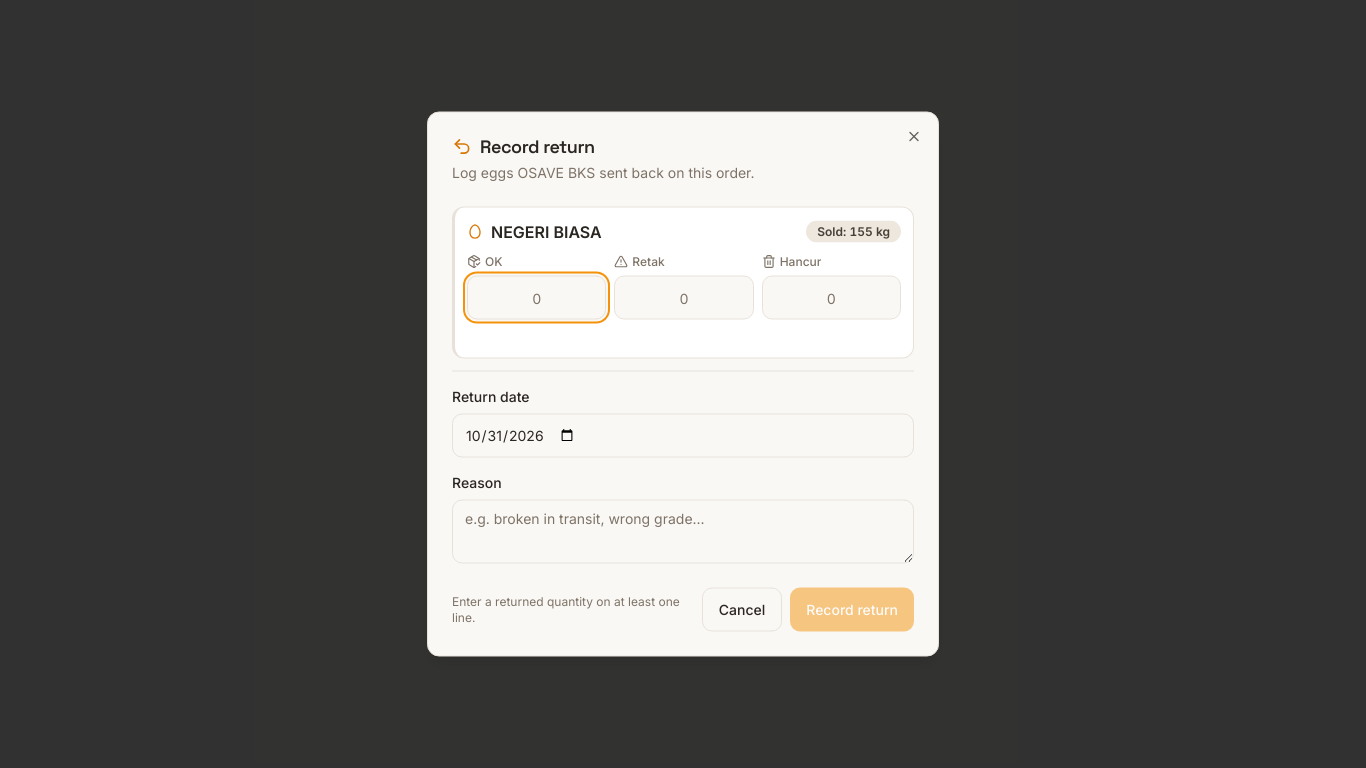
Test case: RecordReturnDialog › clamps the line total to the amount sold and shows the over-max hint
Type "999" into the field labelled "OK".
click(537, 298); type("999")  # box [467, 276, 606, 320]
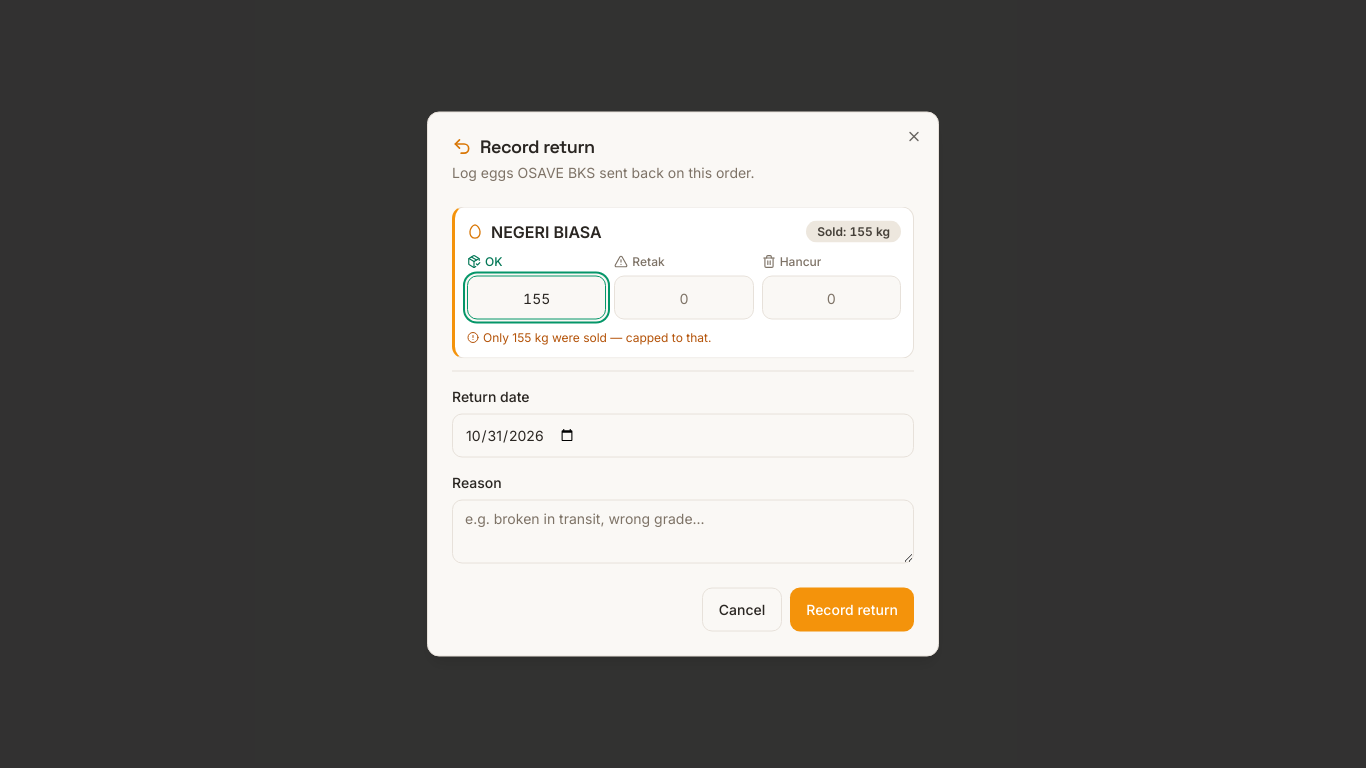
Expected: the field labelled "OK" holds "155", [467, 276, 606, 320]
Expected: the text "Only 155 kg were sold — capped to that." is shown, [467, 330, 711, 344]
